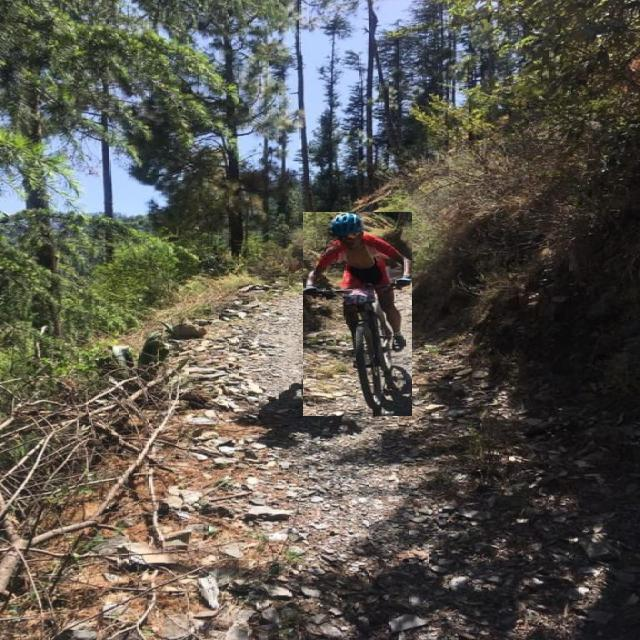bicycle: (303, 213, 412, 416)
